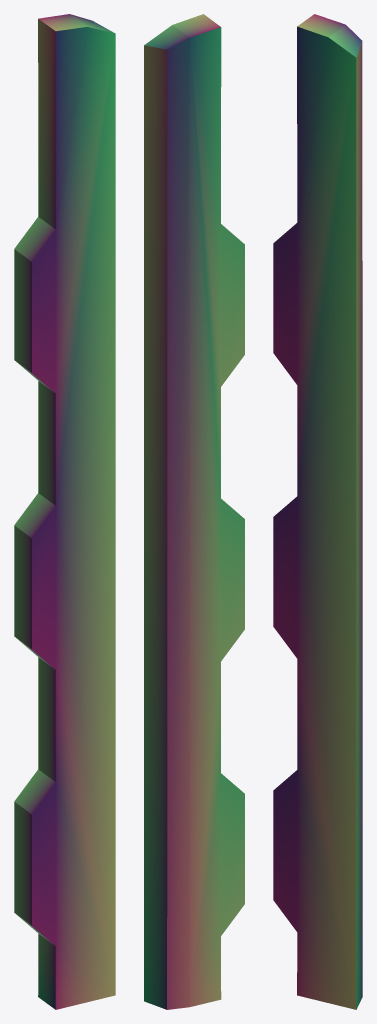
File: Eff_Aokaku_Wpn_L_Side_Mod.fbx
The picture shows the model from 3 angles, left to right: view 1: azimuth 30°, elevation 25°; view 2: azimuth 210°, elevation 25°; view 3: azimuth 330°, elevation 25°; orthographic projection.
Visible parts, largest first — view 1: Wpn_L_Side_Mod; view 2: Wpn_L_Side_Mod; view 3: Wpn_L_Side_Mod.
Part boxes in pixels (box(x1,y1,x2,y2)): Wpn_L_Side_Mod: box(14, 14, 115, 1009); Wpn_L_Side_Mod: box(144, 14, 244, 1009); Wpn_L_Side_Mod: box(273, 14, 362, 1009).
Bounding box in the file's own units: 0.0665 × 0.7417 × 0.0243.
